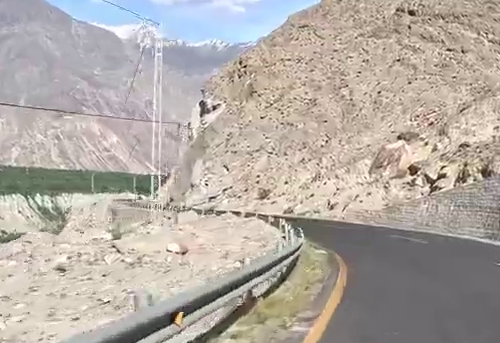right: (278, 197, 500, 325)
